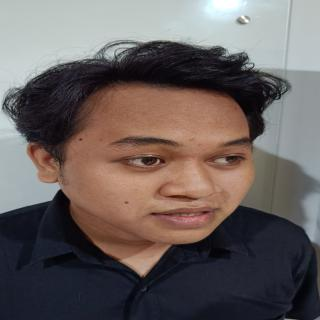Takut: (62, 72, 273, 253)
